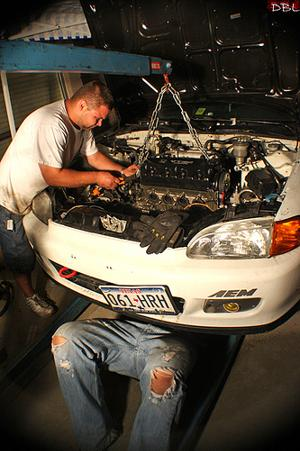person: (2, 80, 139, 316)
